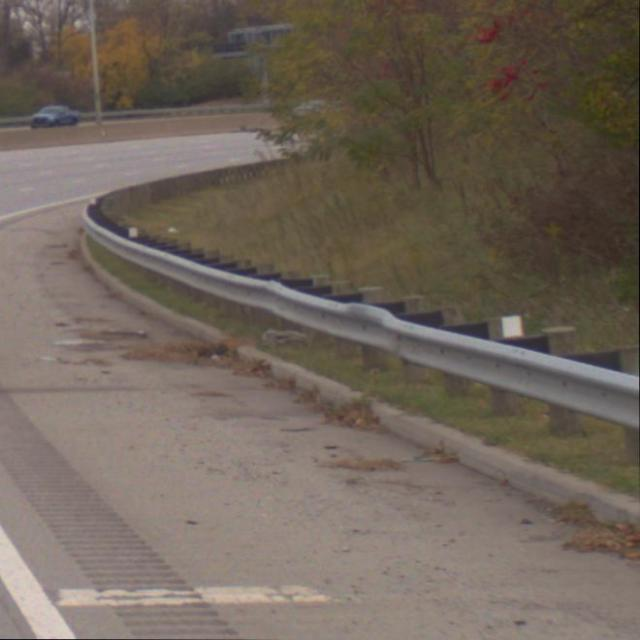Guard rail: (75, 197, 640, 464)
